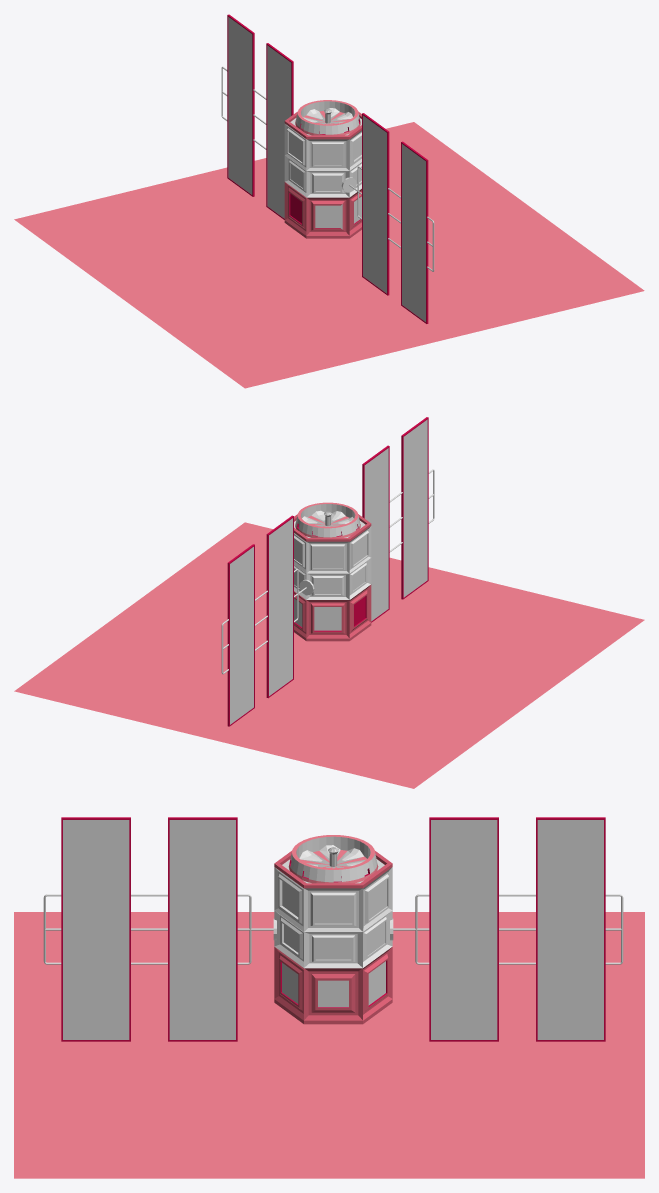
The model's file is satellite_1_2_pink.fbx.
The picture shows the model from 3 angles, top to bottom: view 1: azimuth 30°, elevation 25°; view 2: azimuth 150°, elevation 25°; view 3: azimuth 270°, elevation 25°; orthographic projection. The views are drawn at different scales.
Visible parts, largest first — view 1: Plane, pCube7, Cylinder.020, Cylinder.021; view 2: Plane, pCube7, Cylinder.020, Cylinder.021; view 3: Plane, pCube7, Cylinder.020, Cylinder.021.
Boxes of the visible parts, x1=… form: Plane: x1=14, y1=122, x2=644, y2=388; pCube7: x1=221, y1=14, x2=434, y2=323; Cylinder.020: x1=284, y1=111, x2=361, y2=238; Cylinder.021: x1=295, y1=100, x2=360, y2=135; Plane: x1=14, y1=522, x2=644, y2=788; pCube7: x1=221, y1=417, x2=434, y2=726; Cylinder.020: x1=294, y1=514, x2=371, y2=641; Cylinder.021: x1=295, y1=502, x2=360, y2=537; Plane: x1=14, y1=912, x2=644, y2=1178; pCube7: x1=43, y1=817, x2=623, y2=1041; Cylinder.020: x1=274, y1=850, x2=392, y2=1024; Cylinder.021: x1=288, y1=835, x2=378, y2=883.
Bounding box in the file's own units: 1000 × 398 × 1000.
